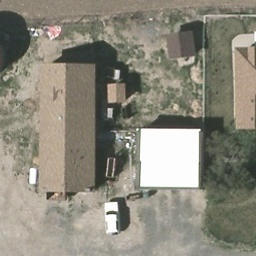car: (103, 201, 121, 237)
